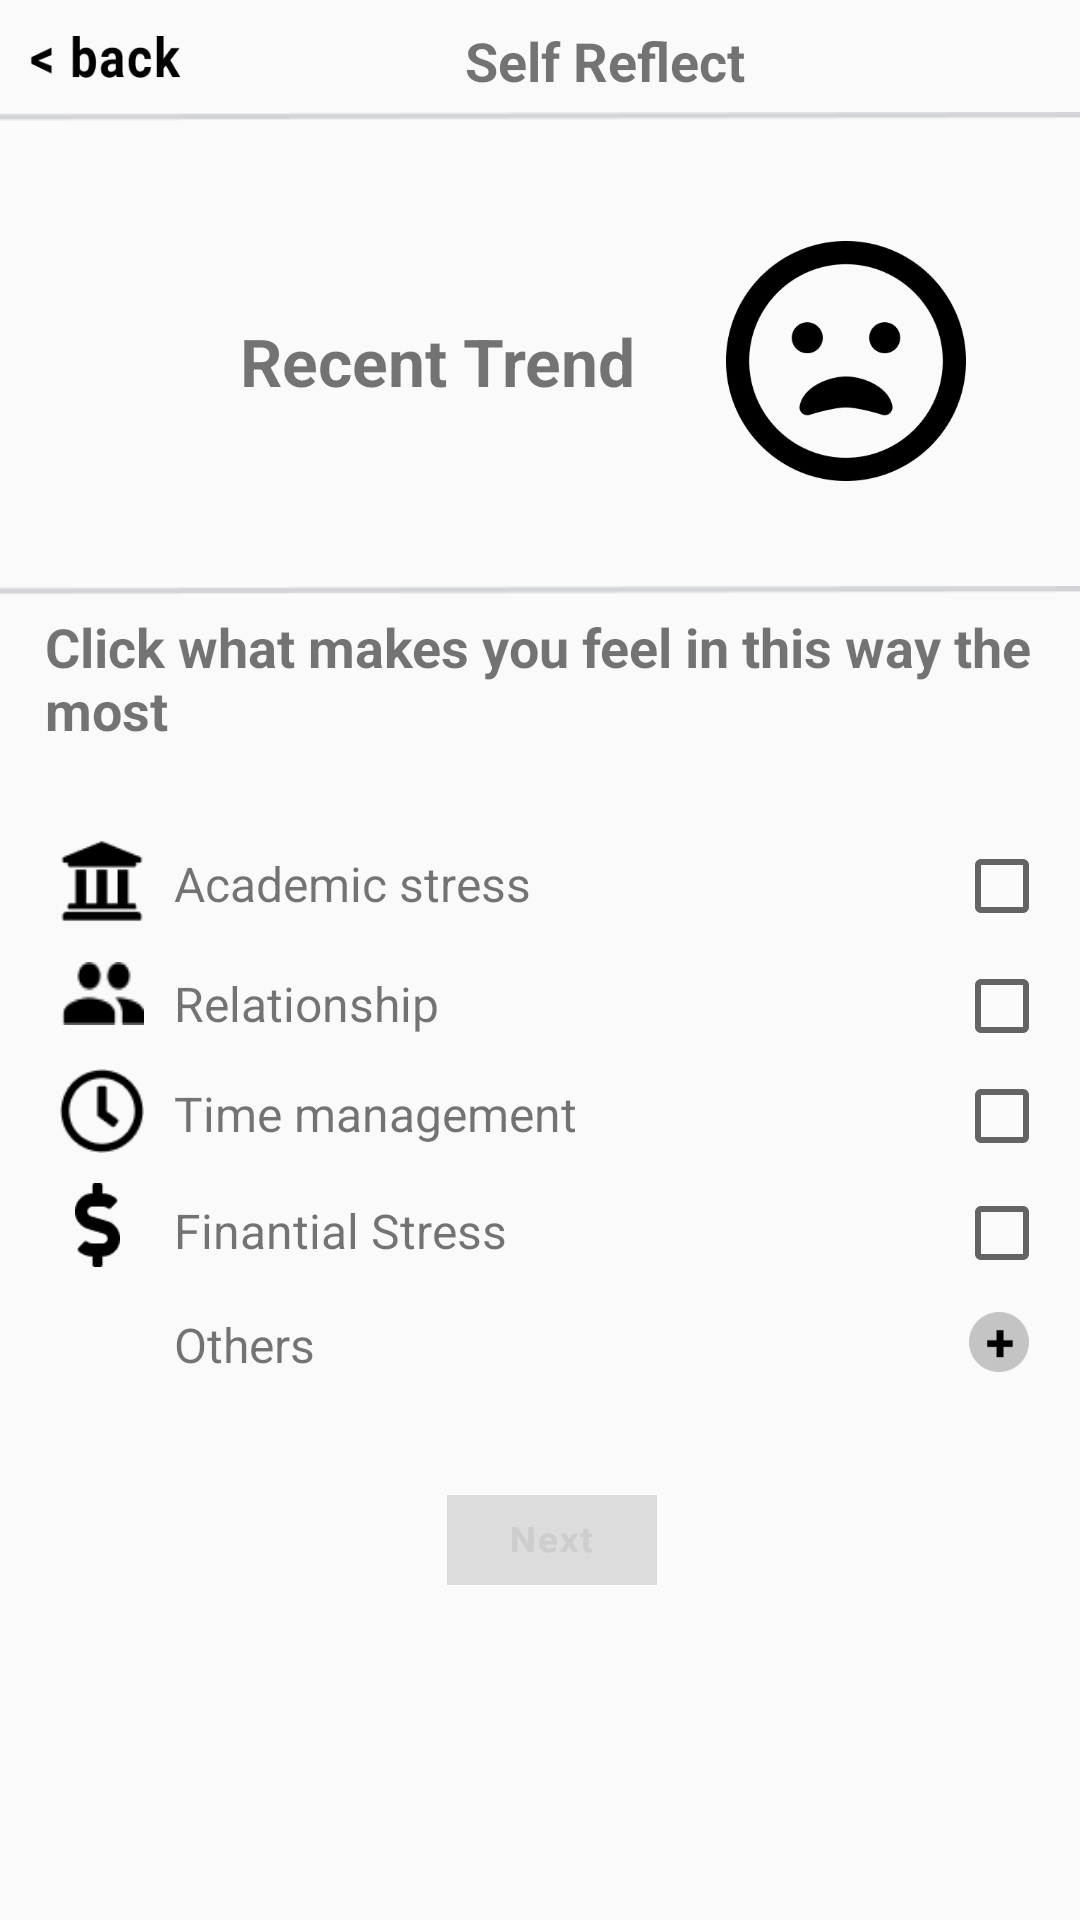

Screen size 1080×1920. Icon name, then its box in pixels as (x1, y1, x2, y2):
add: (969, 1312, 1029, 1372)
clock: (60, 1069, 144, 1153)
dollar sign: (75, 1183, 120, 1267)
two people: (63, 962, 144, 1025)
unhappy: (726, 241, 966, 481)
university: (61, 841, 143, 921)
